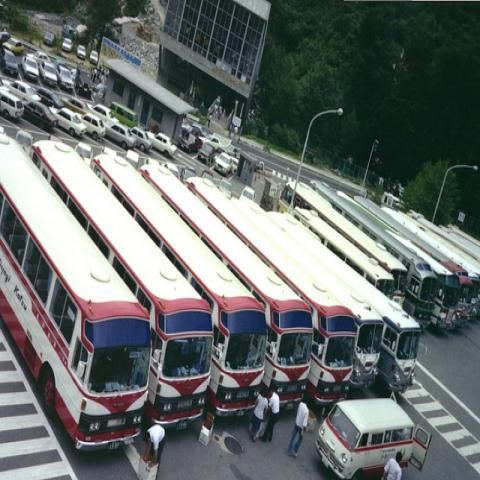bus: (28, 140, 214, 430), (0, 129, 152, 454), (91, 148, 264, 426), (141, 165, 312, 409), (186, 174, 358, 412), (231, 198, 384, 390), (268, 210, 420, 394), (310, 178, 438, 335), (277, 181, 408, 306), (293, 205, 396, 296), (404, 235, 459, 331)
car: (33, 32, 100, 93), (49, 102, 90, 136), (22, 100, 60, 130), (1, 78, 43, 102), (146, 129, 178, 160), (75, 112, 106, 143), (0, 88, 24, 121), (108, 120, 135, 148), (85, 103, 120, 123), (177, 132, 203, 154), (131, 126, 152, 152), (21, 55, 39, 83), (215, 152, 233, 176), (198, 143, 215, 165)
